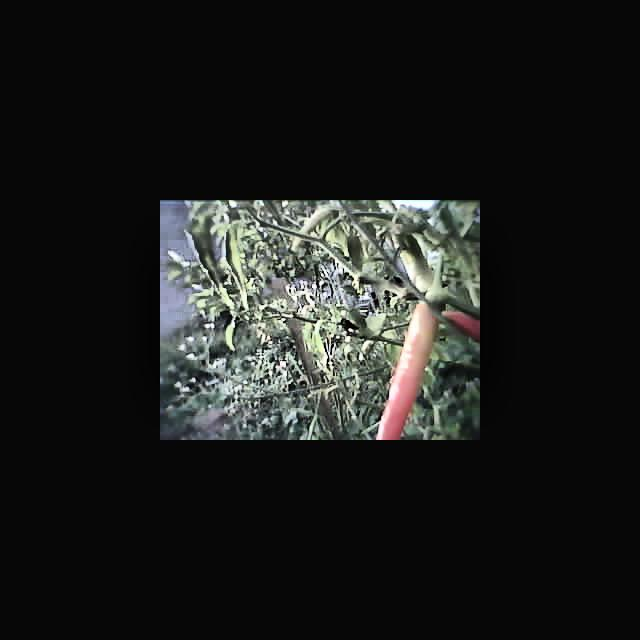Cabai: (377, 302, 438, 439)
